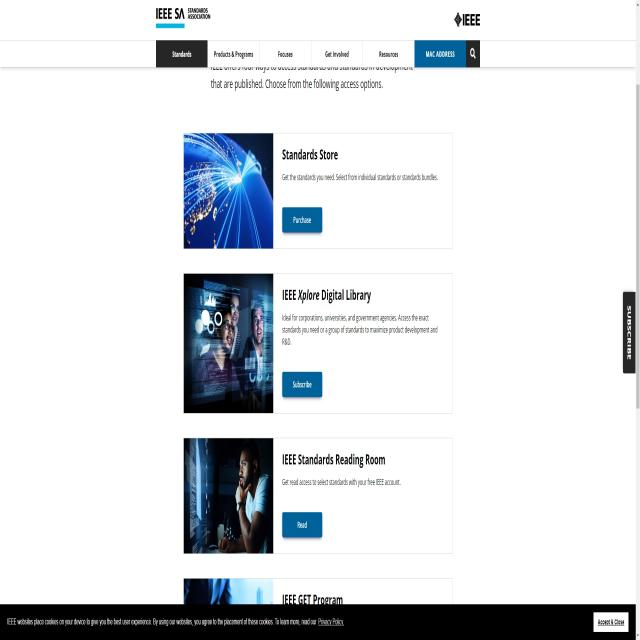tab-bar: (154, 33, 488, 68)
